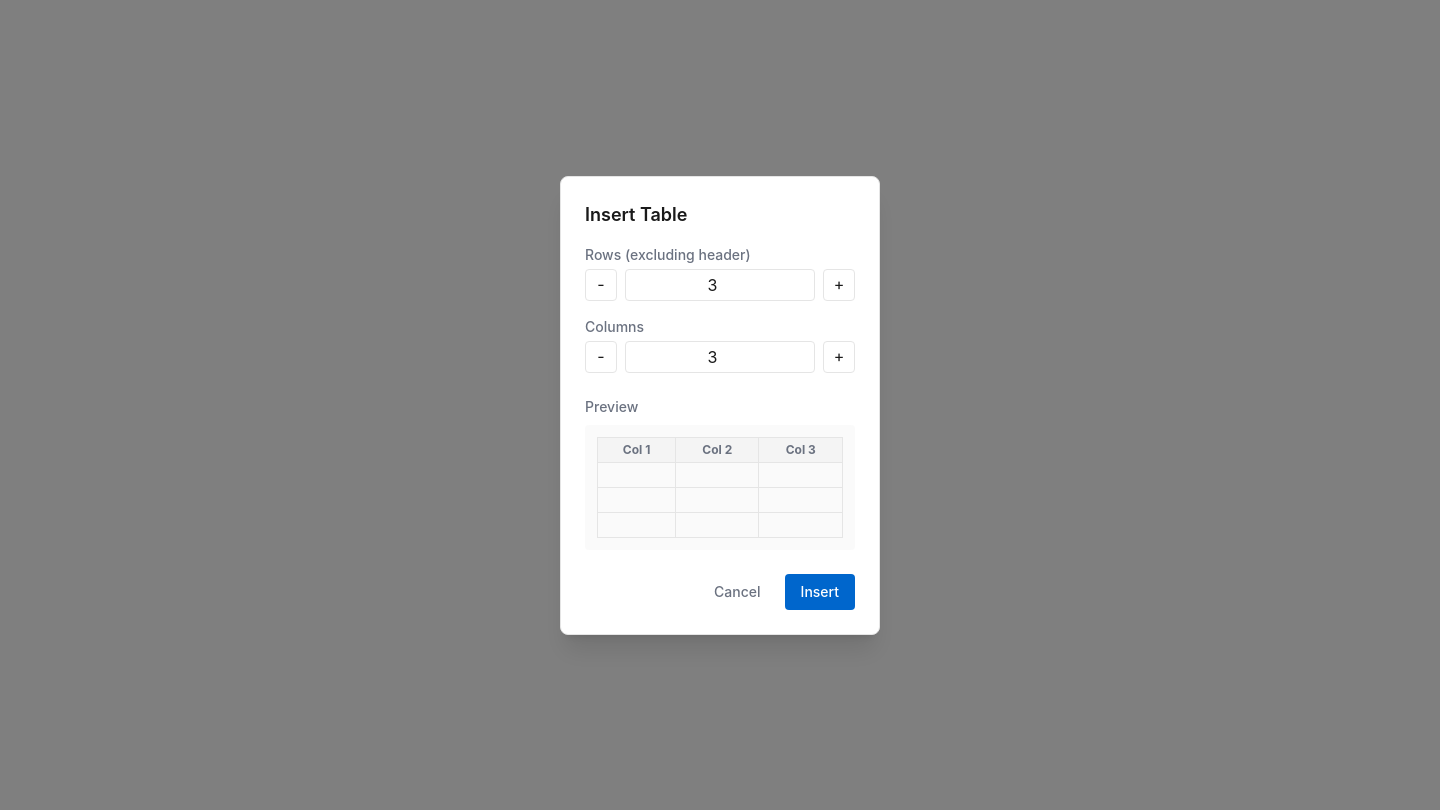
Scenario: TableDialog › should increase columns when + button is clicked
What coordinates should you click on to do the following:
click the button named "increase"
I would click on:
 (839, 356)
Its box is left=823, top=340, right=855, bottom=372.
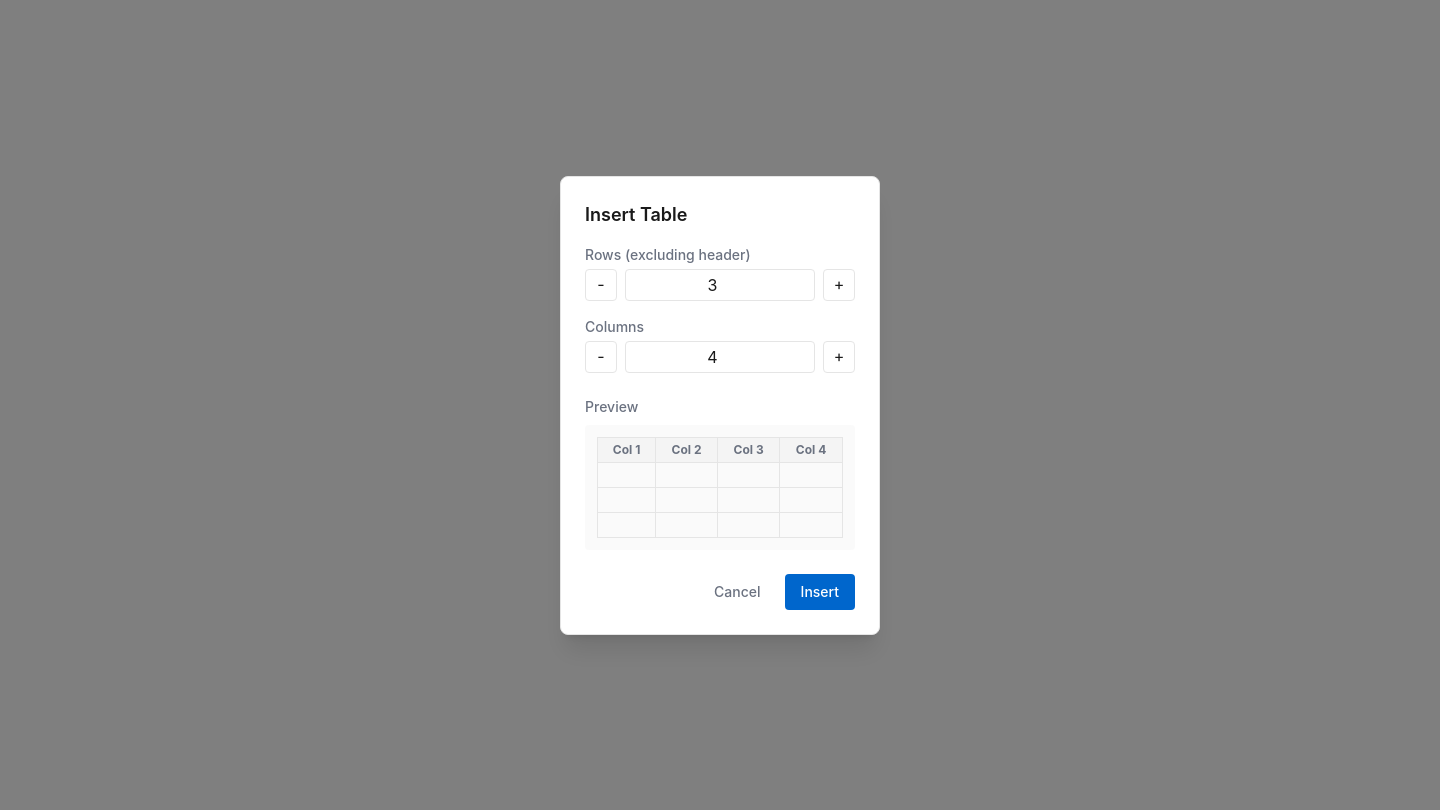
Check: the number field below "Columns" holds "4", box left=625, top=340, right=815, bottom=372
